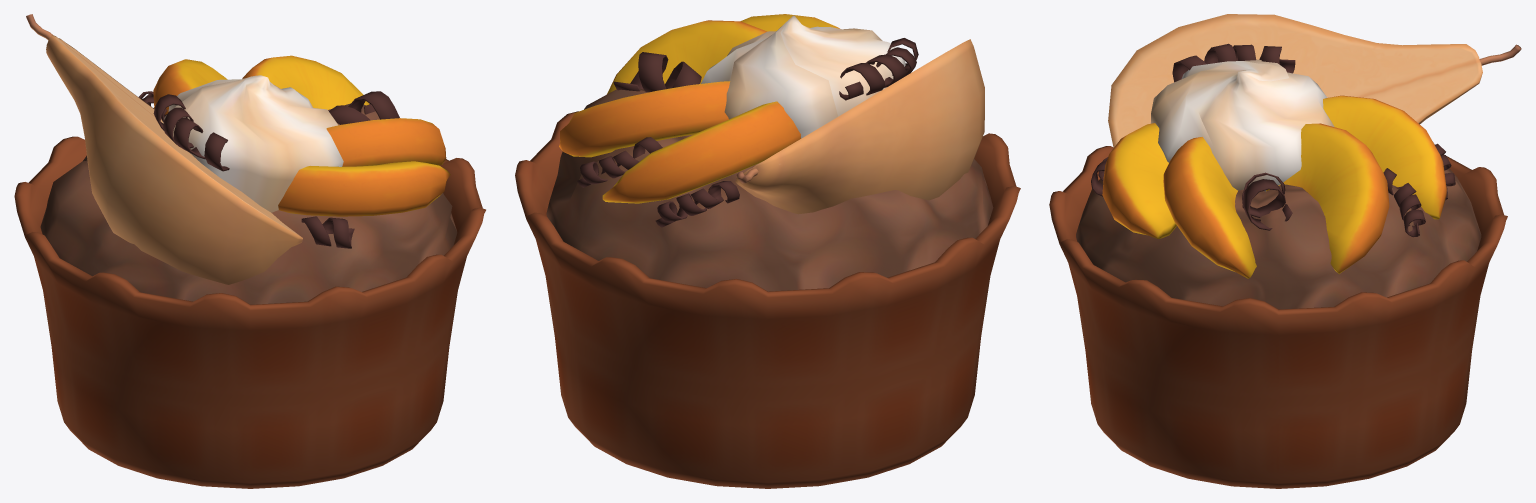
File: dessert_pear_0.fbx
3 renders of one model, left to right at view 1: azimuth 30°, elevation 25°; view 2: azimuth 150°, elevation 25°; view 3: azimuth 270°, elevation 25°, orthographic. The views are drawn at different scales.
Visible parts, largest first — view 1: dessert_pear_&_chocolate; view 2: dessert_pear_&_chocolate; view 3: dessert_pear_&_chocolate.
Boxes of the visible parts, box(x1,y1,x2,y2) form: dessert_pear_&_chocolate: box(14, 14, 485, 488); dessert_pear_&_chocolate: box(515, 14, 1020, 488); dessert_pear_&_chocolate: box(1049, 14, 1521, 488).
Bounding box in the file's own units: 12.95 × 10.55 × 13.33.
